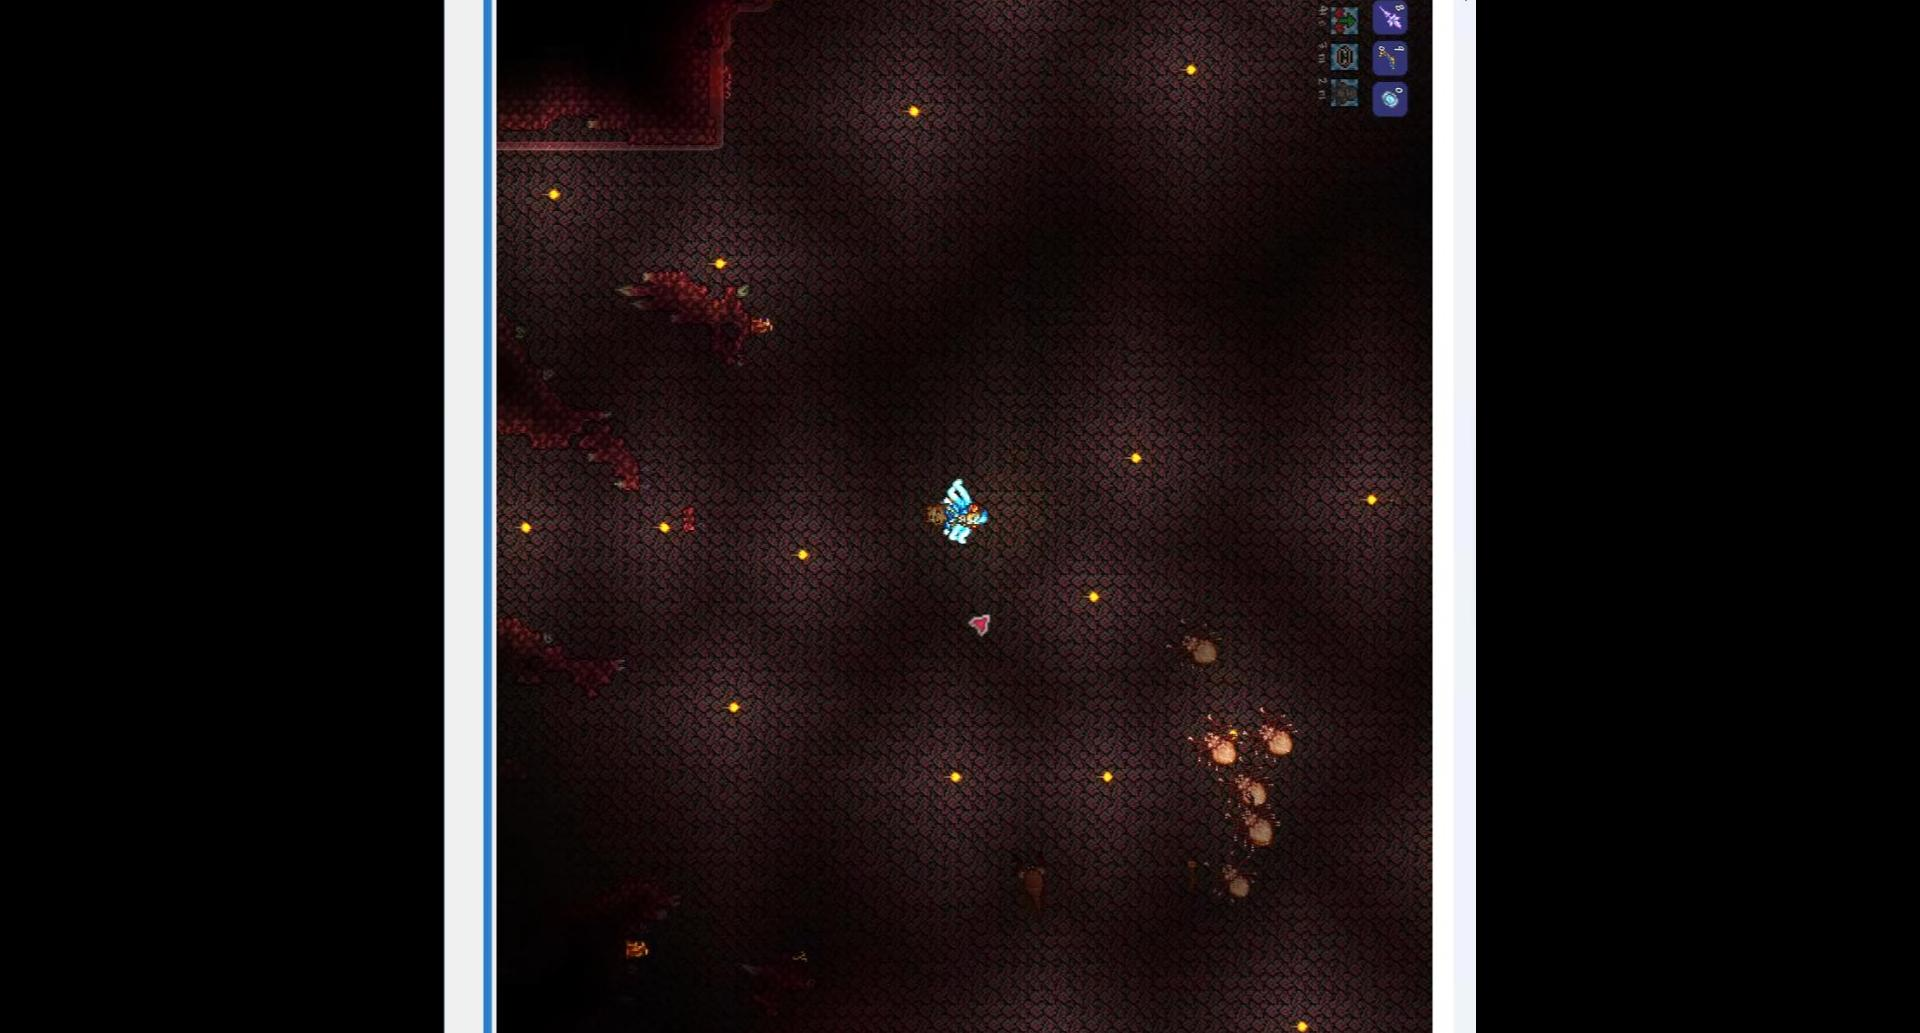spider: (1252, 698, 1305, 765), (1208, 856, 1263, 917), (1163, 614, 1224, 669), (1193, 716, 1244, 770)
